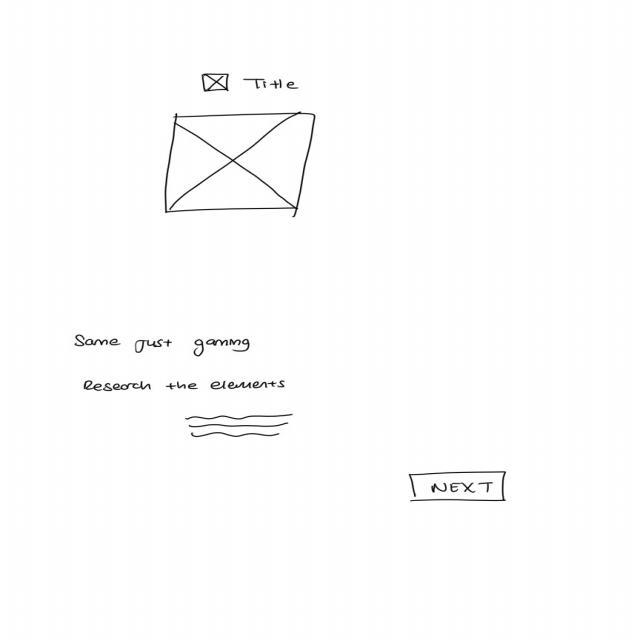button: (407, 471, 508, 504)
image: (162, 112, 317, 214), (199, 73, 232, 94)
label: (72, 332, 250, 358), (82, 379, 291, 392), (242, 78, 301, 91)
textbox: (184, 412, 295, 439)
